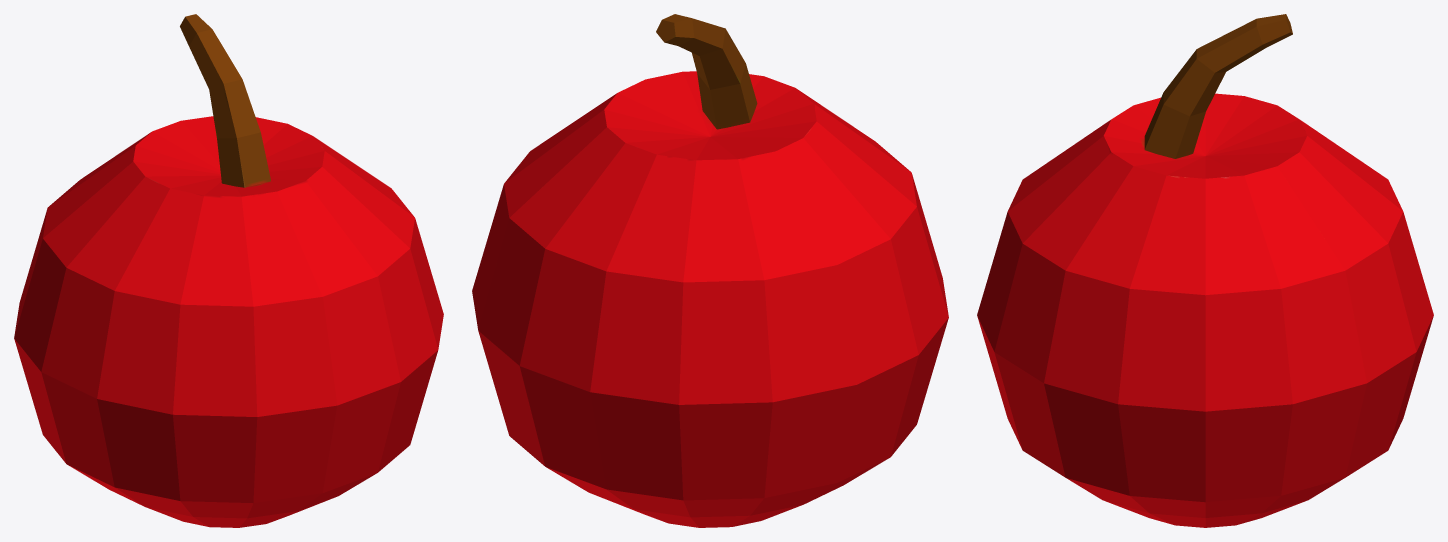
Rendered from apple.fbx.
3 views of the same model, side by side, from view 1: azimuth 30°, elevation 25°; view 2: azimuth 150°, elevation 25°; view 3: azimuth 270°, elevation 25° (orthographic). The views are drawn at different scales.
Parts seen in each view (by area): view 1: Apple; view 2: Apple; view 3: Apple.
Boxes of the visible parts, bbox=[...] form: Apple: bbox=[14, 14, 443, 527]; Apple: bbox=[472, 14, 948, 527]; Apple: bbox=[977, 14, 1433, 527].
Bounding box in the file's own units: 72.69 × 83.83 × 72.69.
